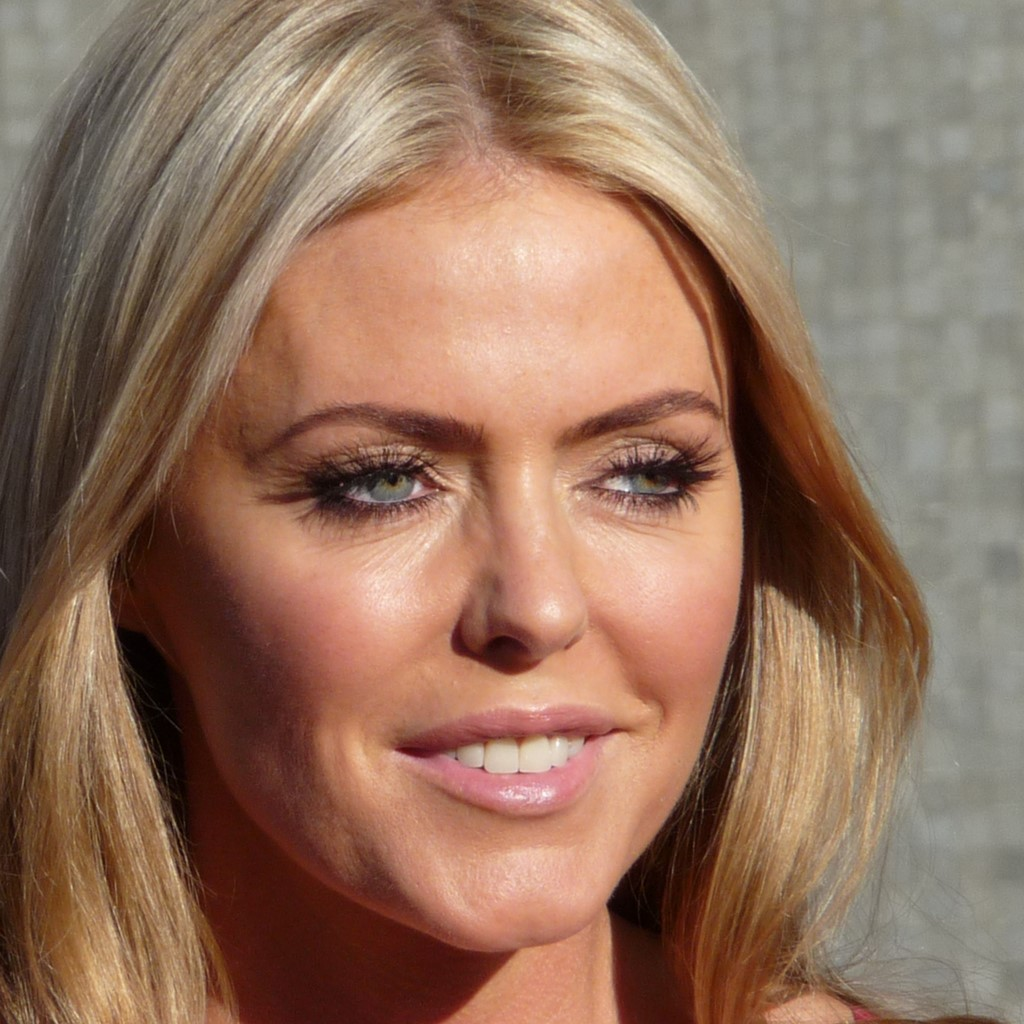sin_mascara: (140, 121, 756, 956)
